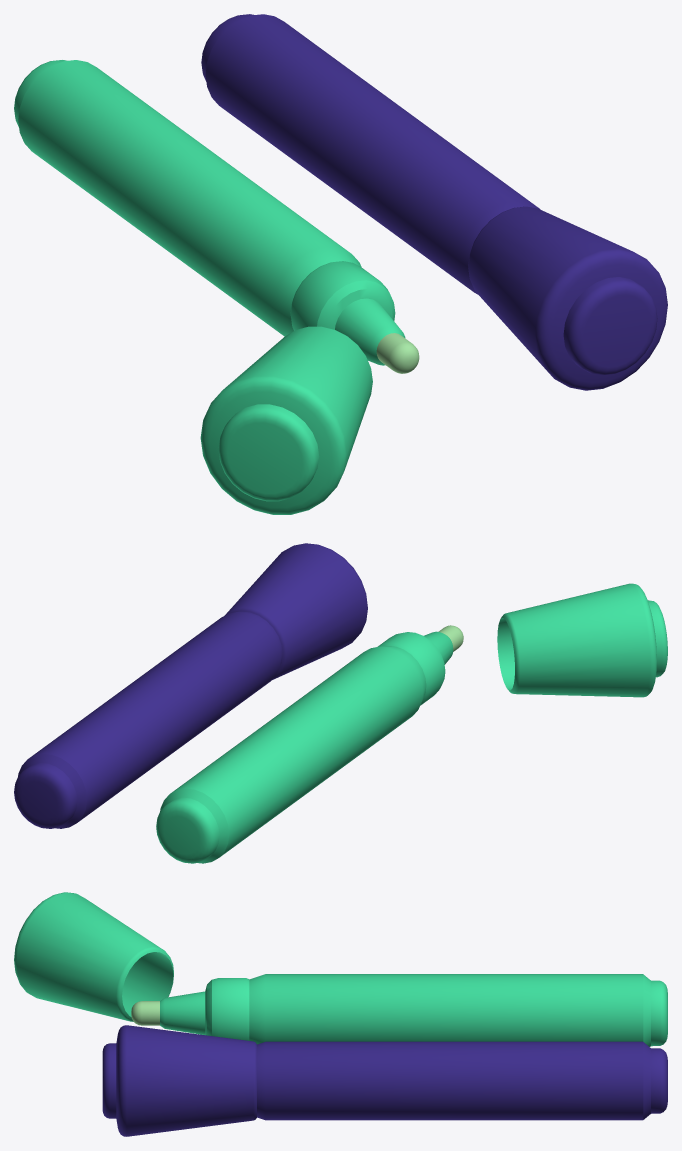
Rendered from fibronTapa2.fbx.
3 renders of one model, top to bottom at view 1: azimuth 30°, elevation 25°; view 2: azimuth 150°, elevation 25°; view 3: azimuth 270°, elevation 25°, orthographic. The views are drawn at different scales.
Visible parts, largest first — view 1: fibron2, fibron, fibronTapa2, fibronTapa; view 2: fibron2, fibron, fibronTapa, fibronTapa2; view 3: fibron2, fibron, fibronTapa2, fibronTapa.
Boxes of the visible parts, x1,y1,x2,y2 form: fibron2: (14,60,419,373); fibron: (201,14,540,294); fibronTapa2: (468,206,667,390); fibronTapa: (200,326,372,514); fibron2: (156,625,463,863); fibron: (14,611,282,828); fibronTapa: (497,583,667,697); fibronTapa2: (225,543,367,679); fibron2: (131,974,667,1046); fibron: (257,1041,667,1120); fibronTapa2: (102,1025,256,1136); fibronTapa: (14,892,173,1021).
Bounding box in the file's own units: 127 × 34.15 × 199.
